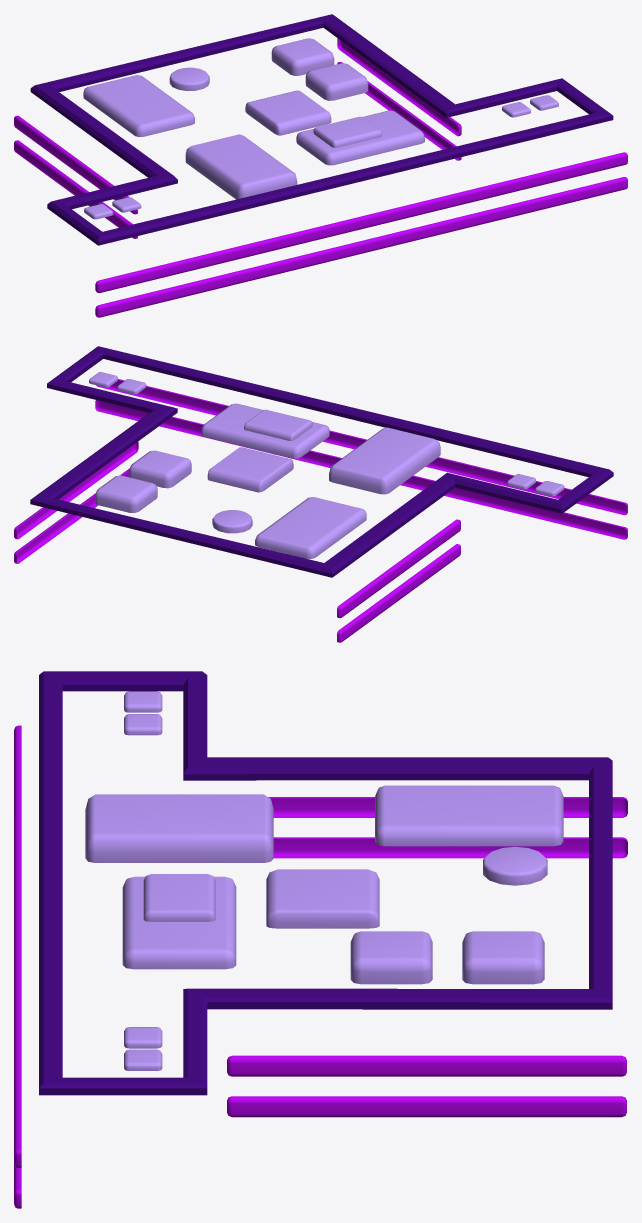
File: wall_deco6.fbx
The picture shows the model from 3 angles, top to bottom: view 1: azimuth 30°, elevation 25°; view 2: azimuth 150°, elevation 25°; view 3: azimuth 270°, elevation 25°; orthographic projection. The views are drawn at different scales.
Visible parts, largest first — view 1: wall_deco6; view 2: wall_deco6; view 3: wall_deco6.
Part boxes in pixels (x1,y1,x2,y2): wall_deco6: (14, 14, 627, 317); wall_deco6: (14, 346, 627, 642); wall_deco6: (14, 671, 627, 1208).
Size of the model in its own units: 1494 by 217 by 908.
